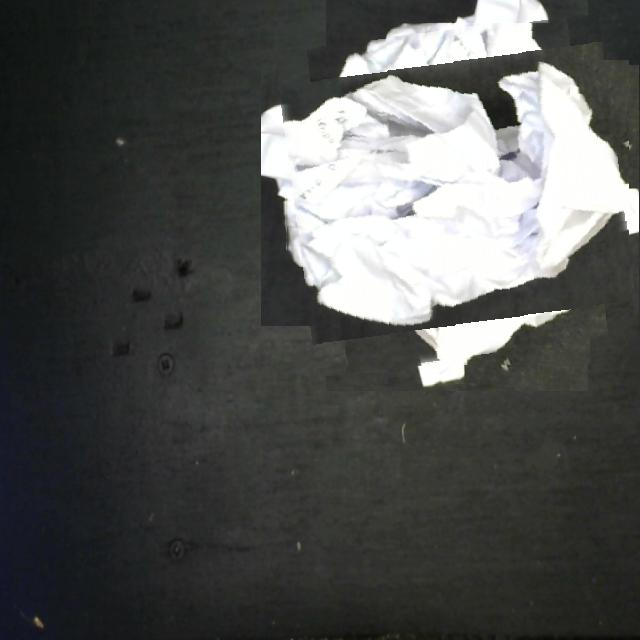biodegradable: (285, 23, 629, 368)
